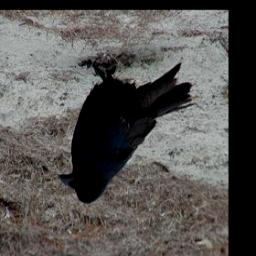Crow: (59, 58, 195, 206)
